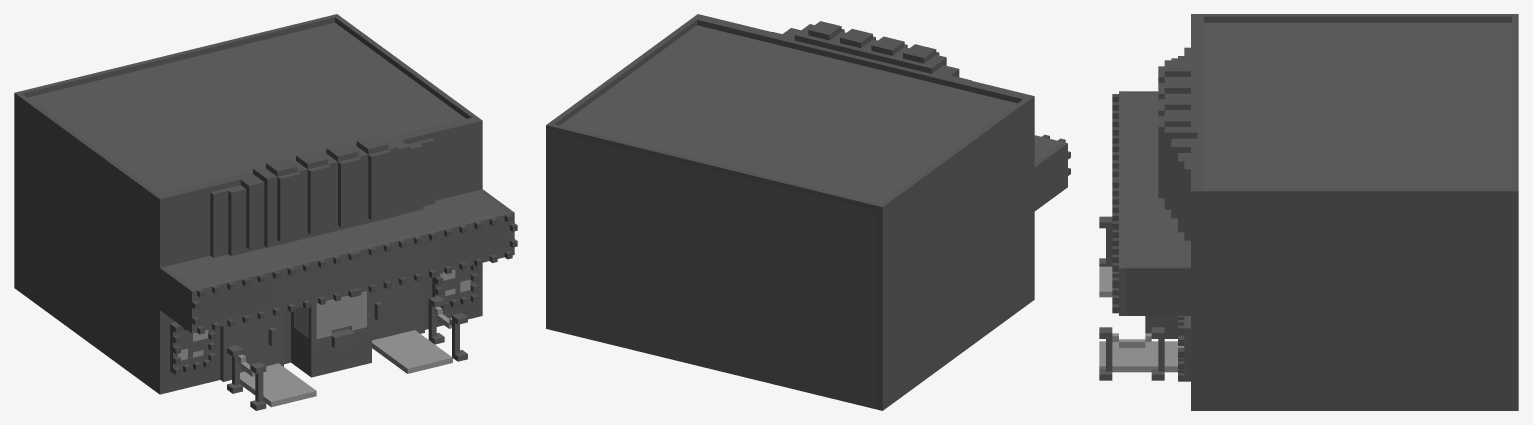
File: bld_store15.obj
The picture shows the model from 3 angles, left to right: view 1: azimuth 30°, elevation 25°; view 2: azimuth 150°, elevation 25°; view 3: azimuth 270°, elevation 25°; orthographic projection. The views are drawn at different scales.
Bounding box in the file's own units: 64 × 39 × 64.
